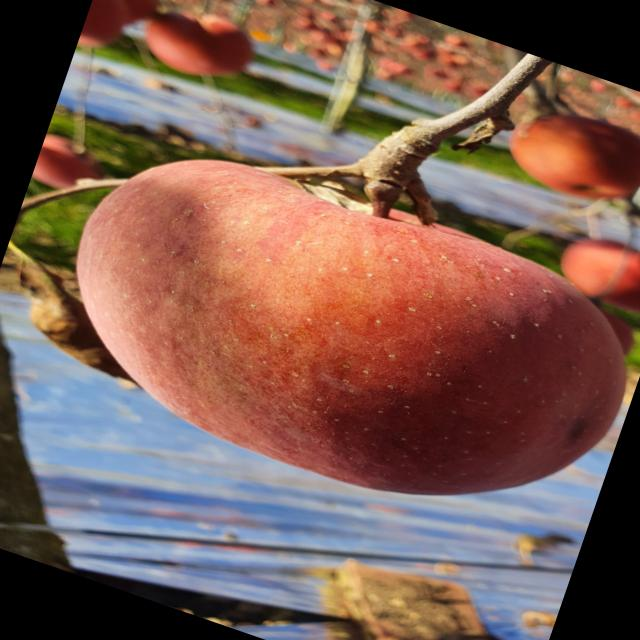fresh: (17, 104, 640, 571)
